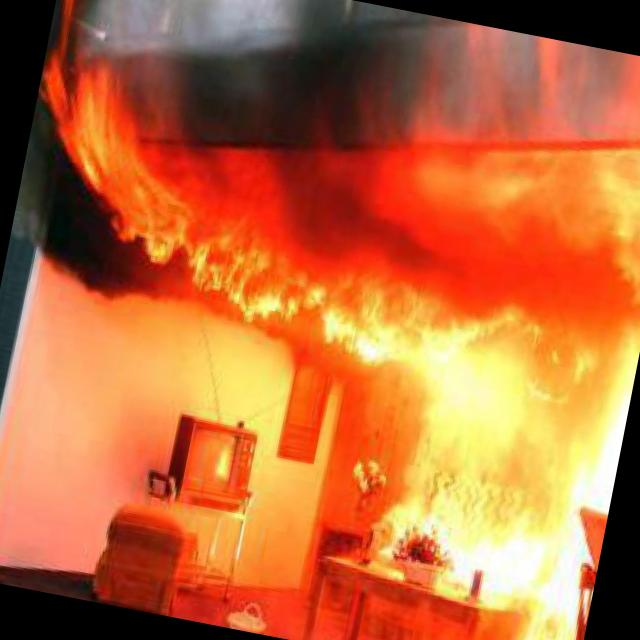fire: (13, 18, 640, 427), (369, 386, 625, 640)
